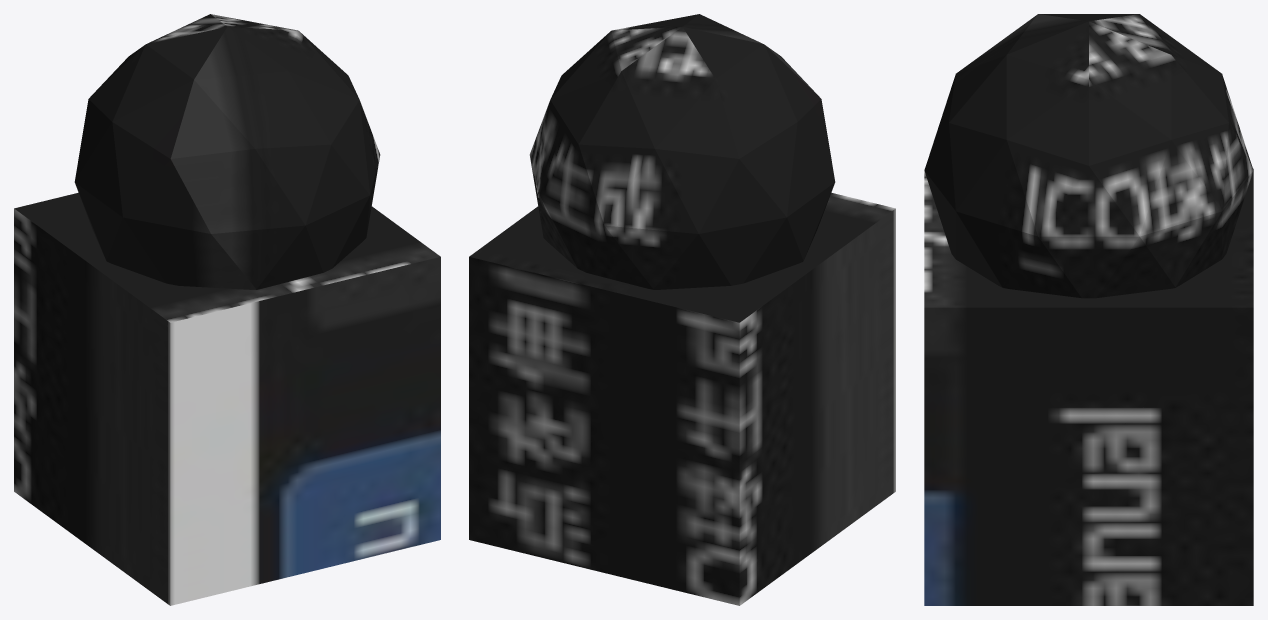
File: fbxTest.fbx
3 renders of one model, left to right at view 1: azimuth 30°, elevation 25°; view 2: azimuth 150°, elevation 25°; view 3: azimuth 270°, elevation 25°, orthographic. The views are drawn at different scales.
Parts seen in each view (by area): view 1: Icosphere; view 2: Icosphere; view 3: Icosphere.
Part boxes in pixels (left/top/right/bottom): Icosphere: left=14, top=14, right=440, bottom=605; Icosphere: left=469, top=14, right=895, bottom=605; Icosphere: left=924, top=14, right=1253, bottom=605.
Bounding box in the file's own units: 200 × 345 × 200.
1 material, 1 textured.
